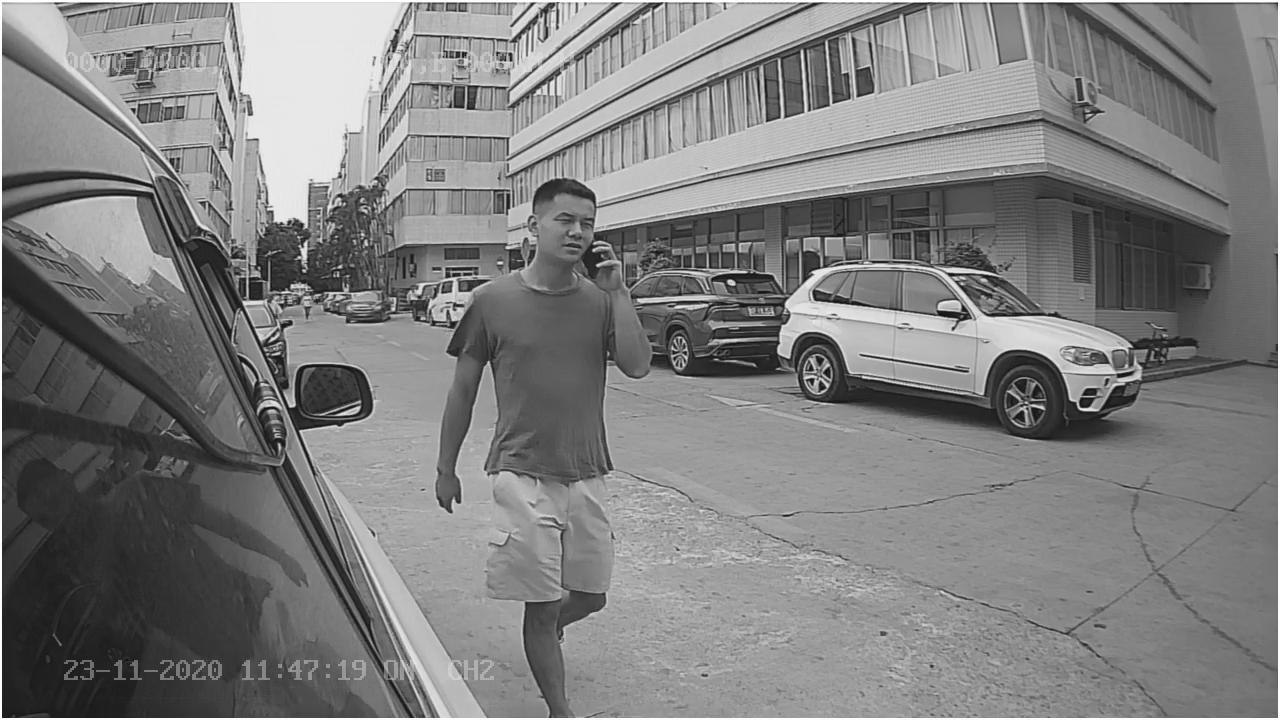person: (437, 149, 653, 529)
